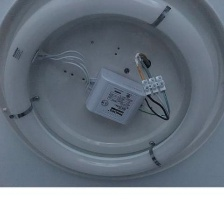light_bulb: (0, 0, 220, 184)
